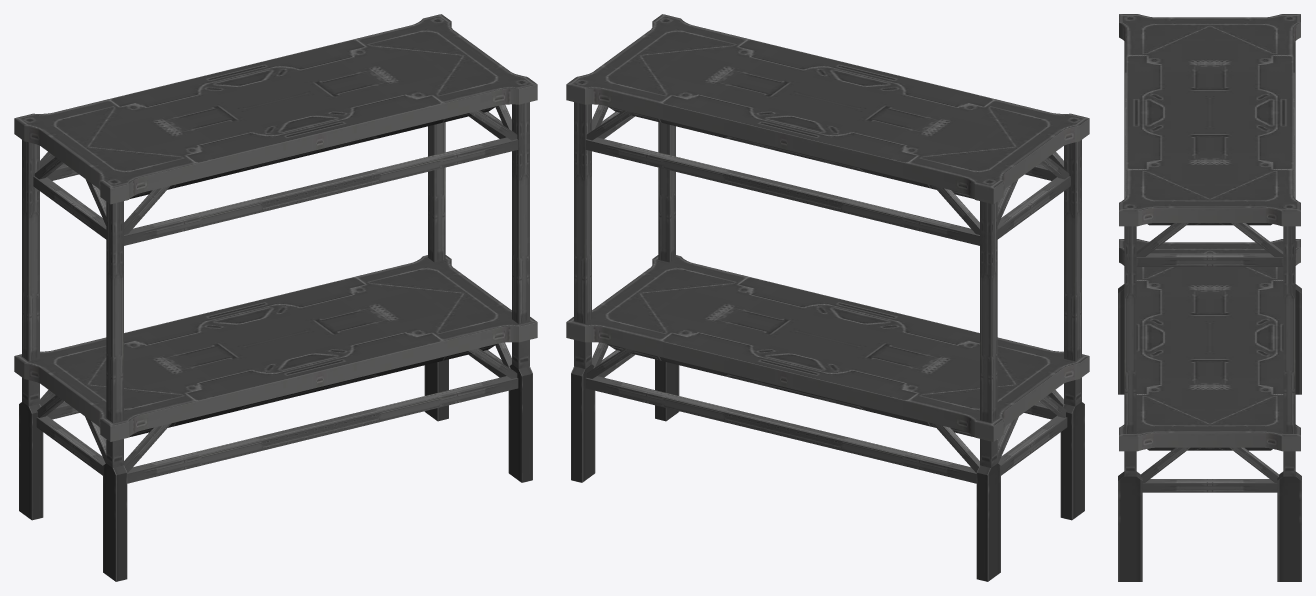
The model's file is Shelves ThinShort.glb.
3 views of the same model, side by side, from view 1: azimuth 30°, elevation 25°; view 2: azimuth 150°, elevation 25°; view 3: azimuth 270°, elevation 25° (orthographic). The views are drawn at different scales.
Parts seen in each view (by area): view 1: Prop_Shelves_ThinShort; view 2: Prop_Shelves_ThinShort; view 3: Prop_Shelves_ThinShort.
Part boxes in pixels (x1,y1,x2,y2): Prop_Shelves_ThinShort: (14, 14, 537, 581); Prop_Shelves_ThinShort: (566, 14, 1089, 581); Prop_Shelves_ThinShort: (1118, 14, 1301, 581).
Bounding box in the file's own units: 1.37 × 1.21 × 0.5407.
Materials: 1 (1 with a texture image).
